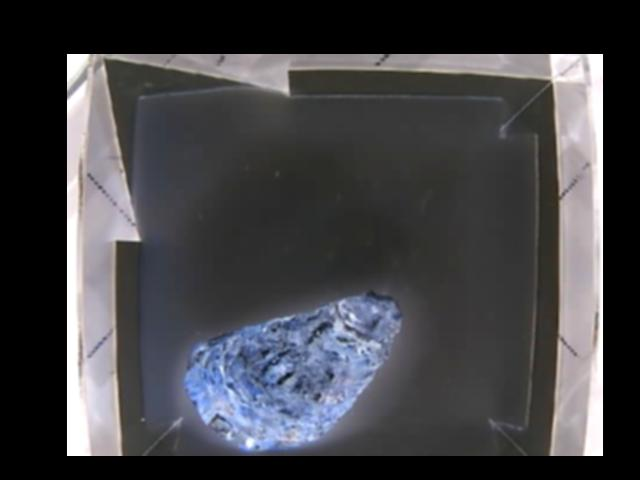Shell: (185, 293, 404, 446)
